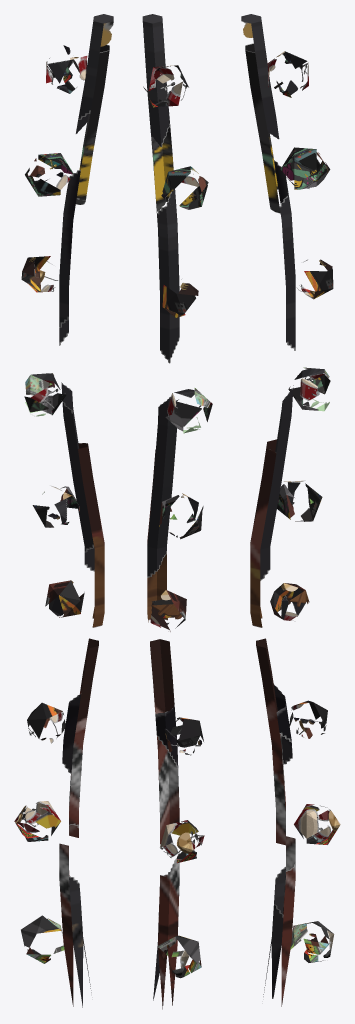
3 renders of one model, left to right at view 1: azimuth 90°, elevation 25°; view 2: azimuth 210°, elevation 25°; view 3: azimuth 270°, elevation 25°, orthographic.
Size of the model in its own units: 0.0636 by 1.2 by 0.1097.
